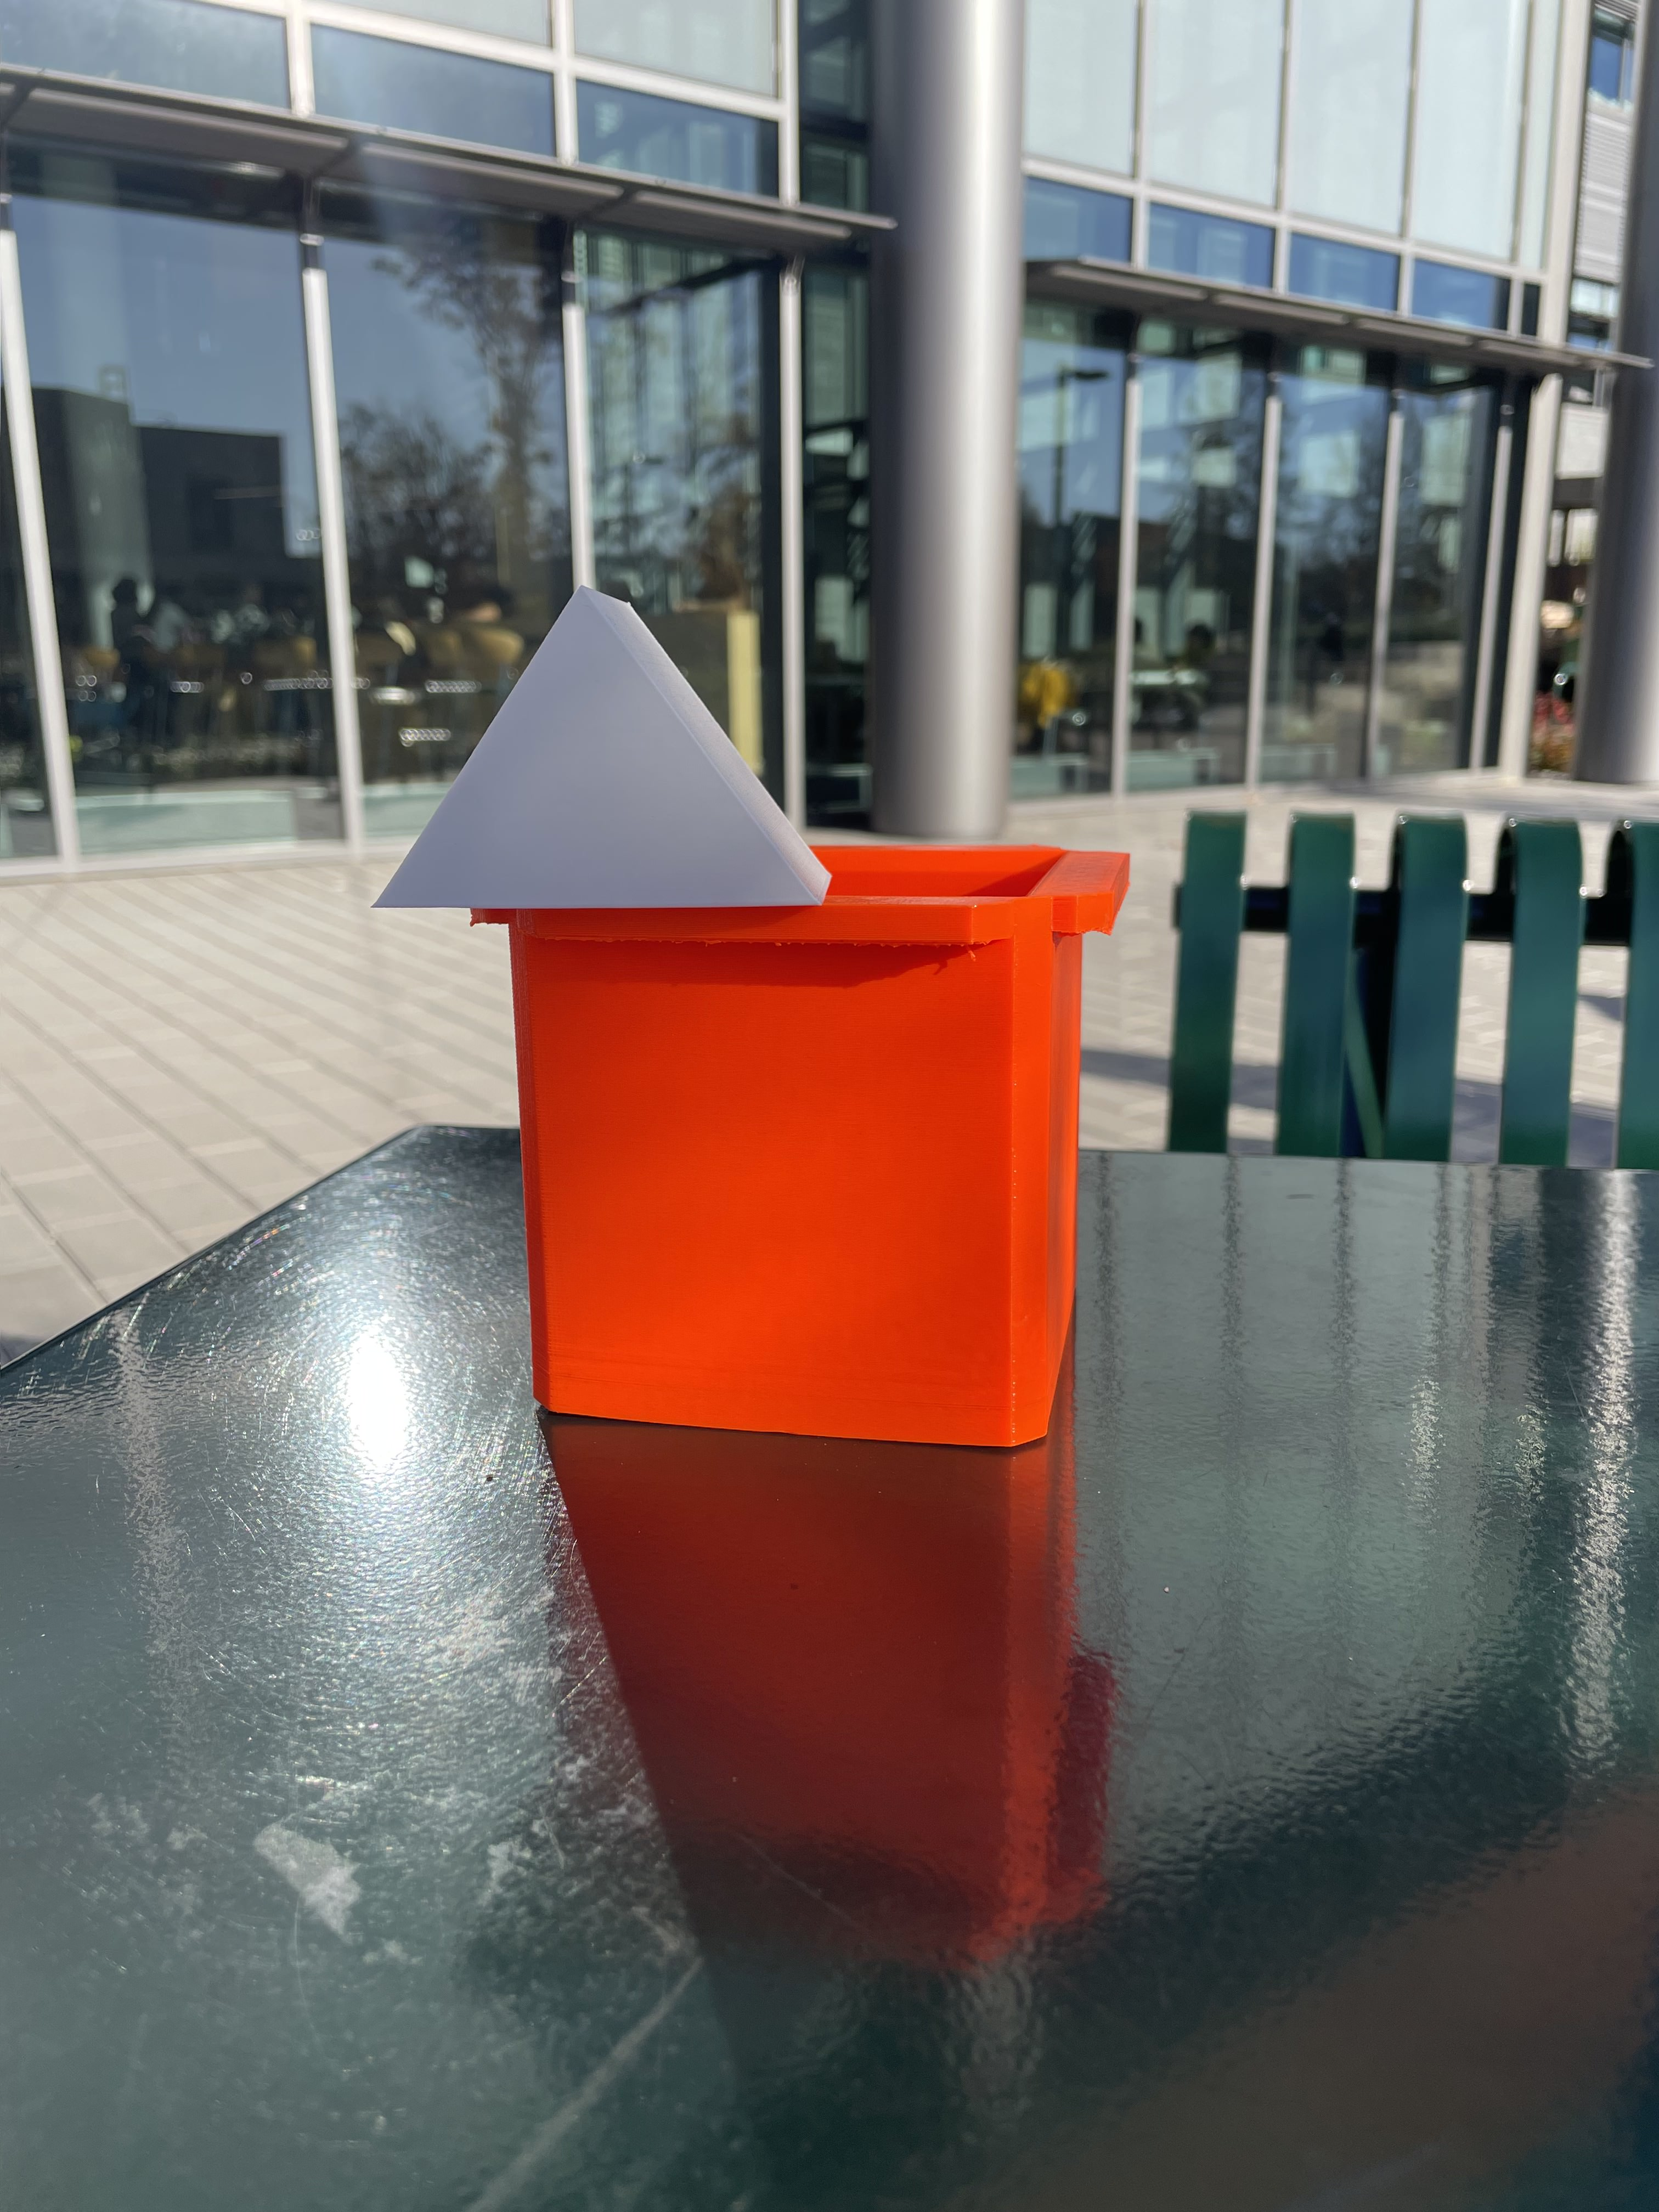payload1: (464, 829, 1197, 1500)
payload2: (350, 571, 871, 935)
